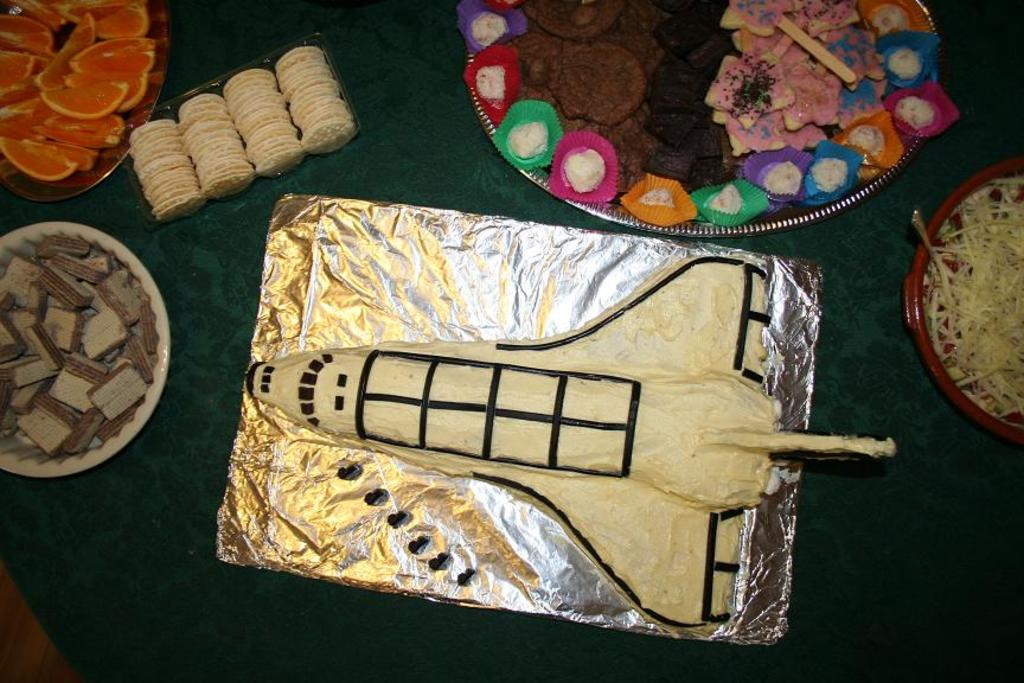Ripe: (5, 0, 158, 180)
